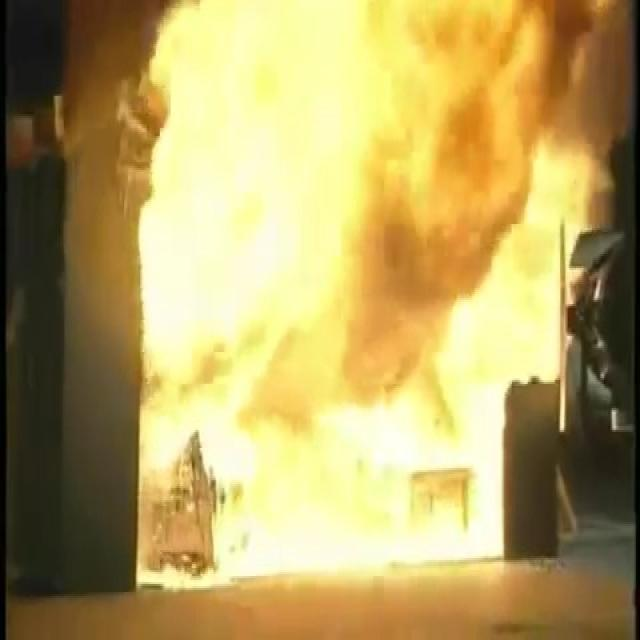Fire: (108, 16, 590, 447)
